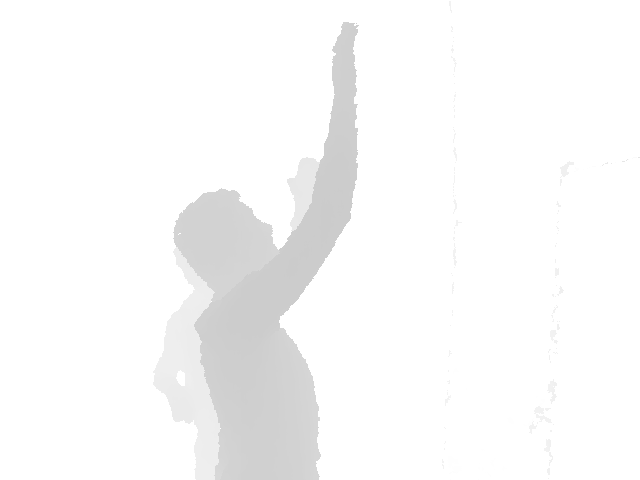hand: (287, 157, 324, 231), (331, 22, 358, 106)
head: (173, 189, 280, 297)
person: (172, 22, 360, 480), (153, 157, 325, 480)
